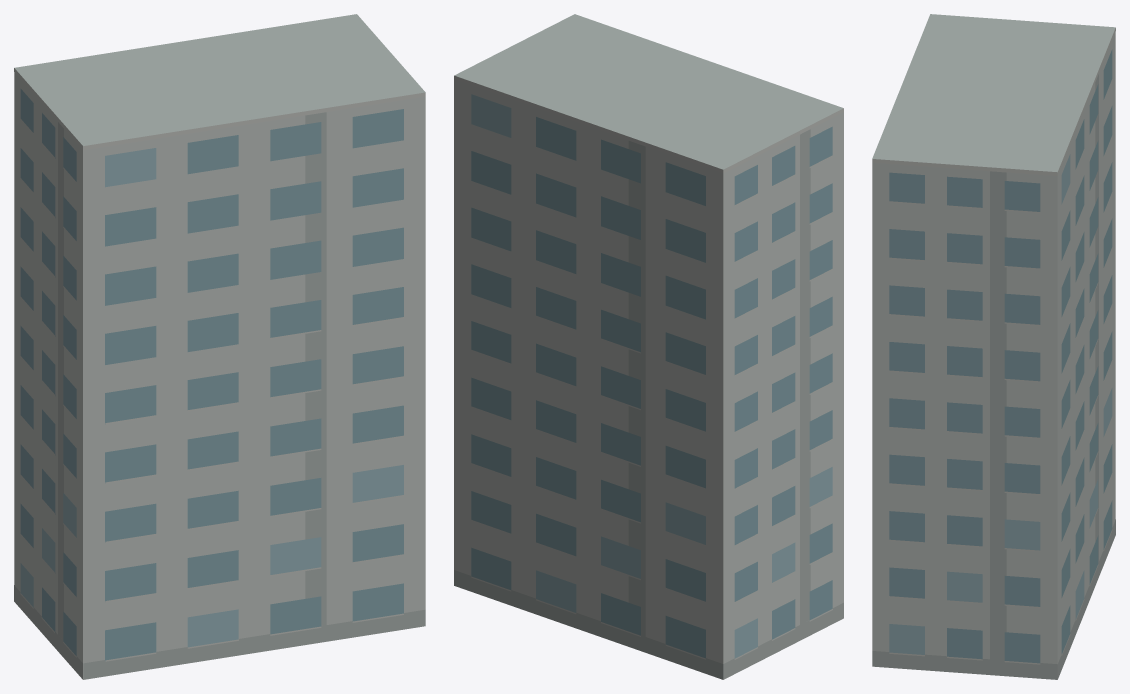
Rendered from residential-cf072bbe-586e-47a3-b411-68cd6a2d34e7.glb.
3 renders of one model, left to right at view 1: azimuth 30°, elevation 25°; view 2: azimuth 150°, elevation 25°; view 3: azimuth 270°, elevation 25°, orthographic. The views are drawn at different scales.
Parts seen in each view (by area): view 1: residential-cf072bbe-586e-47a3-b411-68cd6a2d34e7.tmp; view 2: residential-cf072bbe-586e-47a3-b411-68cd6a2d34e7.tmp; view 3: residential-cf072bbe-586e-47a3-b411-68cd6a2d34e7.tmp.
Boxes of the visible parts, left/top/right/bottom form: residential-cf072bbe-586e-47a3-b411-68cd6a2d34e7.tmp: left=14, top=14, right=425, bottom=679; residential-cf072bbe-586e-47a3-b411-68cd6a2d34e7.tmp: left=454, top=14, right=843, bottom=679; residential-cf072bbe-586e-47a3-b411-68cd6a2d34e7.tmp: left=872, top=14, right=1115, bottom=679.
Bounding box in the file's own units: 20.72 × 31 × 13.49.
